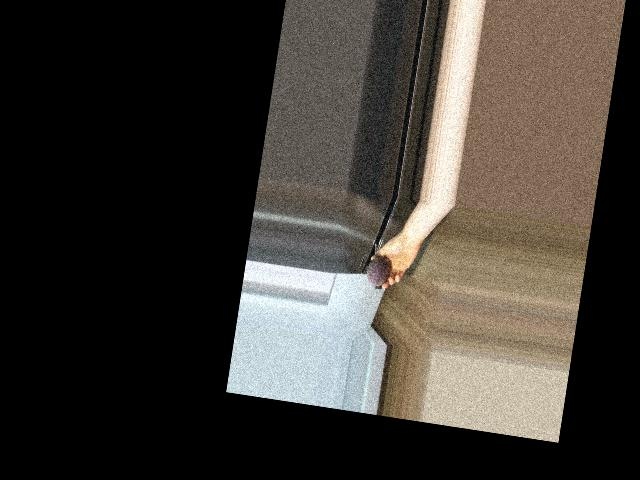beet: (364, 243, 392, 291)
